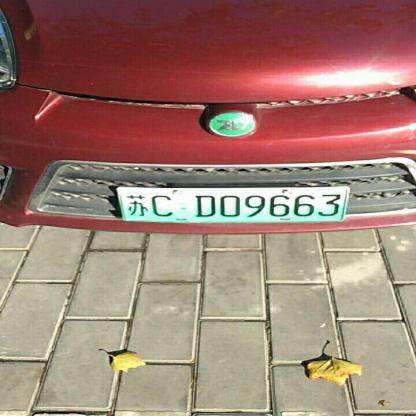lp: (115, 188, 348, 223)
